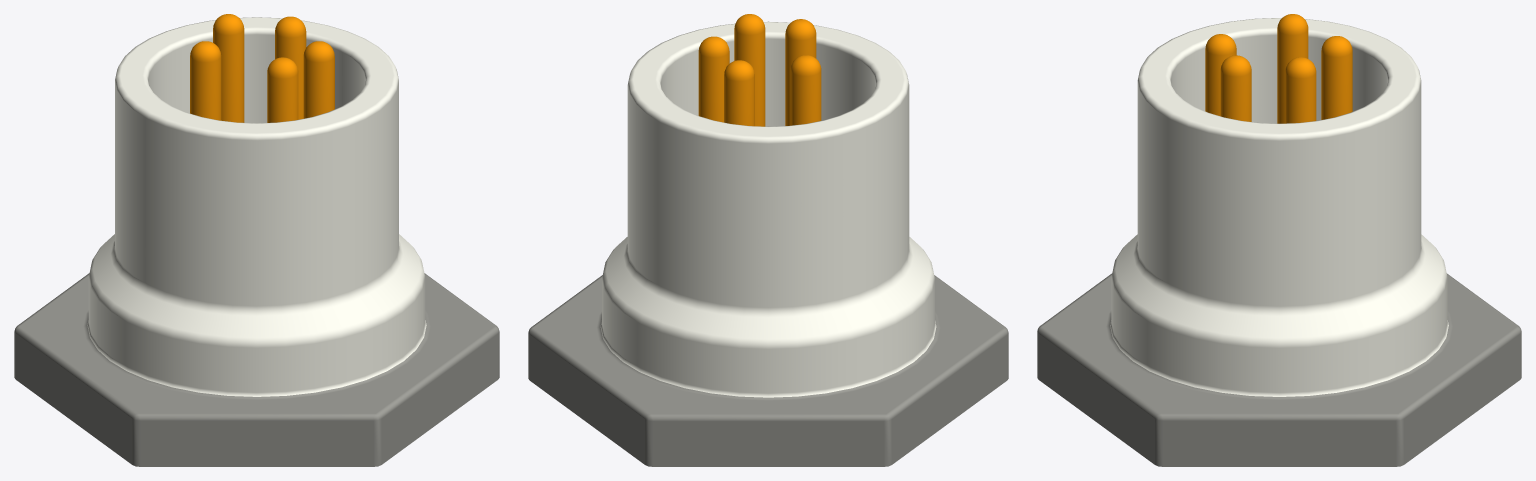
Rendered from Prong Hole #1.fbx.
The picture shows the model from 3 angles, left to right: view 1: azimuth 30°, elevation 25°; view 2: azimuth 150°, elevation 25°; view 3: azimuth 270°, elevation 25°; orthographic projection.
Parts seen in each view (by area): view 1: kitbash_98; view 2: kitbash_98; view 3: kitbash_98.
Boxes of the visible parts, x1,y1,x2,y2 form: kitbash_98: [14, 14, 499, 466]; kitbash_98: [528, 14, 1008, 466]; kitbash_98: [1037, 14, 1521, 466].
Size of the model in its own units: 2.5 by 2.22 by 2.87.
